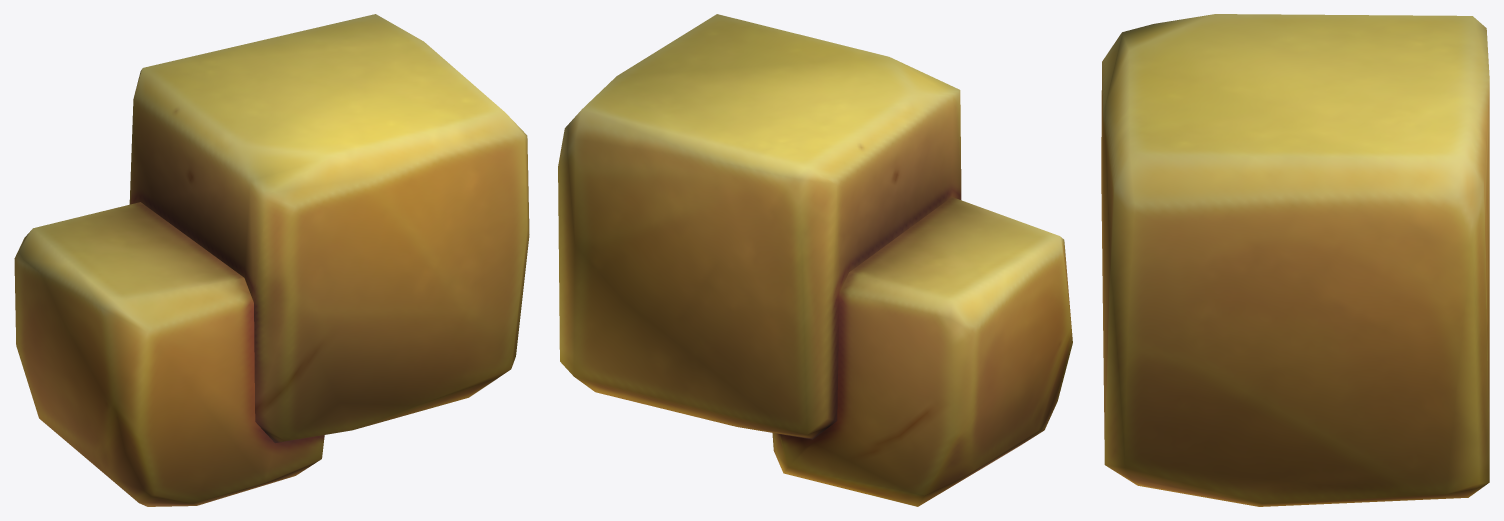
File: SM_Gem_Gold_006.fbx
3 renders of one model, left to right at view 1: azimuth 30°, elevation 25°; view 2: azimuth 150°, elevation 25°; view 3: azimuth 270°, elevation 25°, orthographic. The views are drawn at different scales.
Parts seen in each view (by area): view 1: SM_Gem_Gold_006; view 2: SM_Gem_Gold_006; view 3: SM_Gem_Gold_006.
Boxes of the visible parts, bbox=[...] form: SM_Gem_Gold_006: bbox=[14, 14, 529, 506]; SM_Gem_Gold_006: bbox=[558, 14, 1072, 506]; SM_Gem_Gold_006: bbox=[1101, 14, 1489, 506].
Size of the model in its own units: 22.25 by 17.88 by 14.92.
